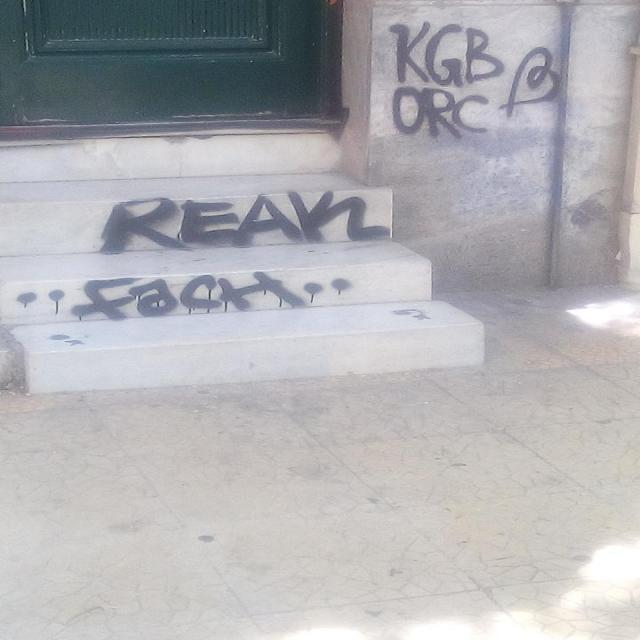nonspitting: (391, 20, 561, 144), (104, 190, 390, 256), (18, 274, 354, 320)
